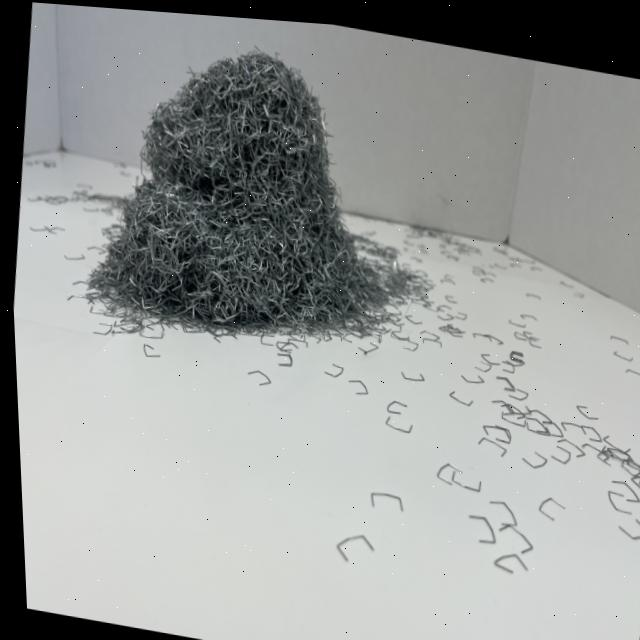staples: (67, 14, 419, 370)
